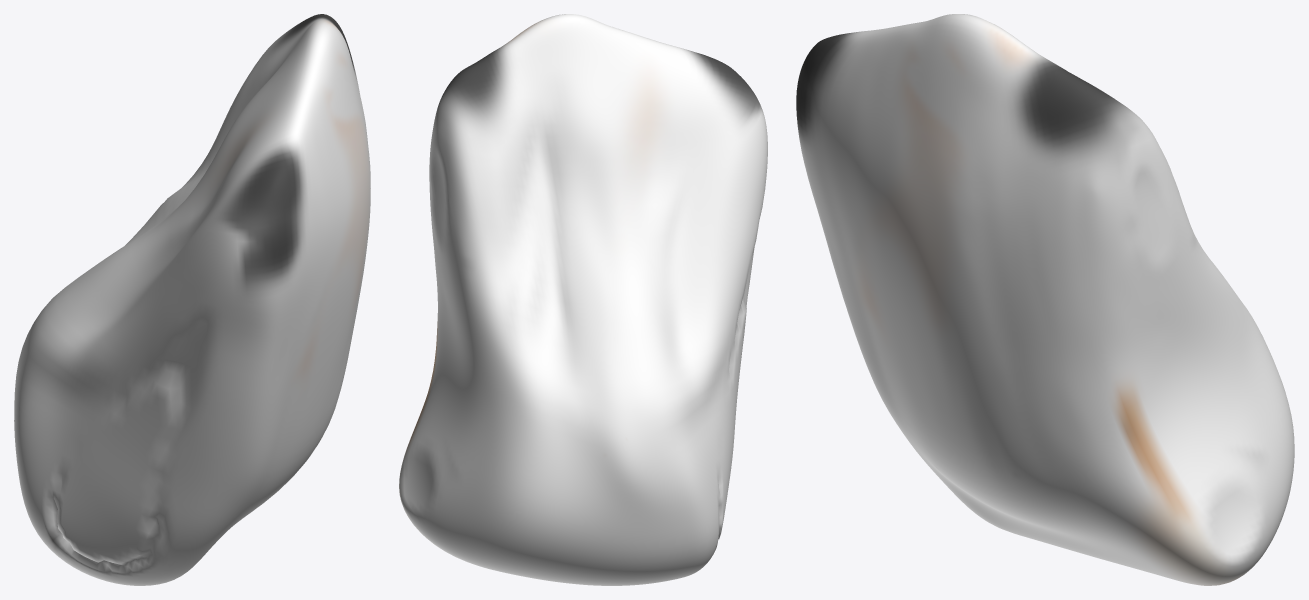
File: 33_class_6.glb
The picture shows the model from 3 angles, left to right: view 1: azimuth 30°, elevation 25°; view 2: azimuth 150°, elevation 25°; view 3: azimuth 270°, elevation 25°; orthographic projection. The views are drawn at different scales.
Parts seen in each view (by area): view 1: 33; view 2: 33; view 3: 33.
Part boxes in pixels (x1,y1,x2,y2): 33: [14, 14, 370, 585]; 33: [399, 14, 767, 585]; 33: [796, 14, 1294, 585].
Bounding box in the file's own units: 0.2228 × 0.368 × 0.2776.
Materials: 1 (1 with a texture image).
